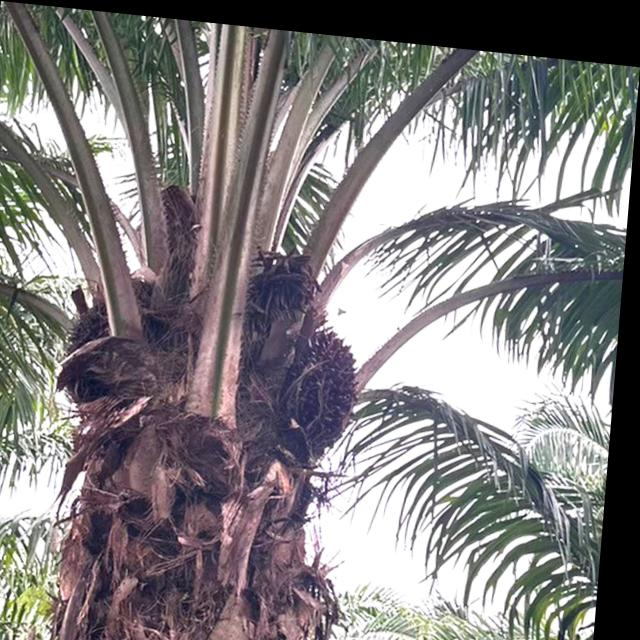ripe: (290, 314, 375, 456)
